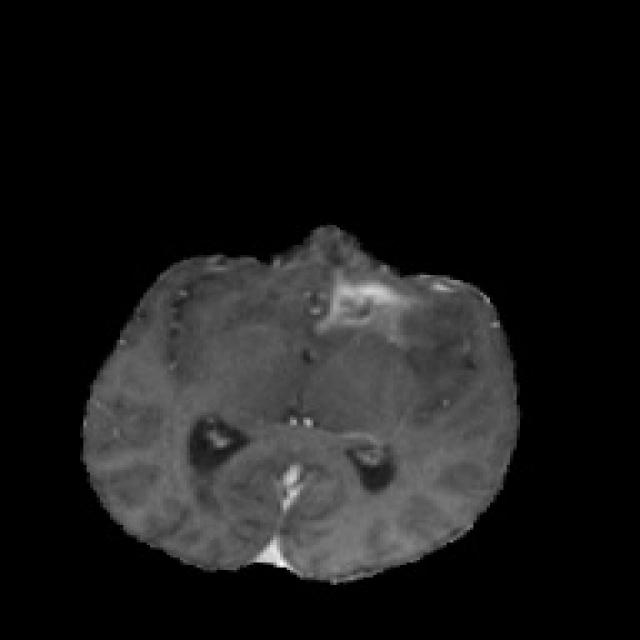negative: (318, 278, 405, 338)
